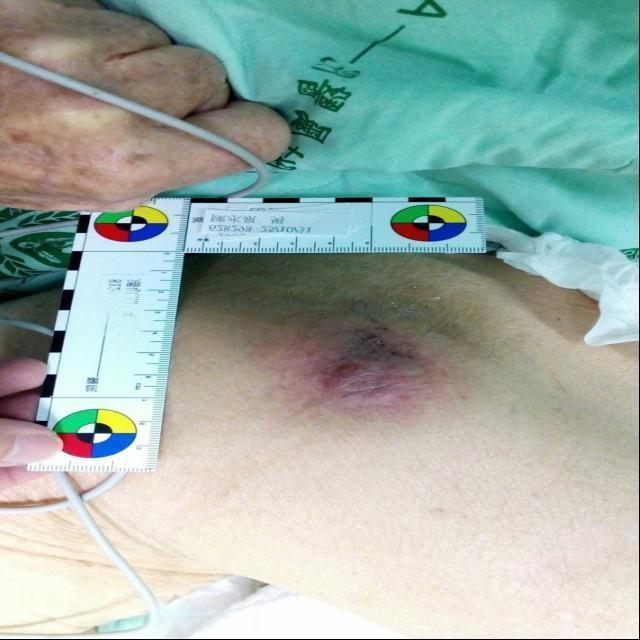DTI: (311, 328, 426, 407)
